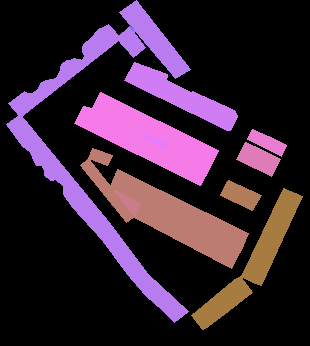parkingspot: (6, 114, 188, 322), (110, 169, 248, 252), (74, 106, 210, 185), (8, 24, 121, 117), (91, 92, 218, 168), (124, 62, 237, 130), (134, 202, 240, 268), (241, 188, 302, 285), (119, 0, 190, 78), (80, 158, 134, 222), (191, 276, 252, 329), (220, 180, 261, 210), (116, 26, 145, 57), (236, 142, 263, 168), (254, 150, 280, 176), (264, 136, 286, 156), (247, 129, 270, 148), (88, 148, 112, 165)
